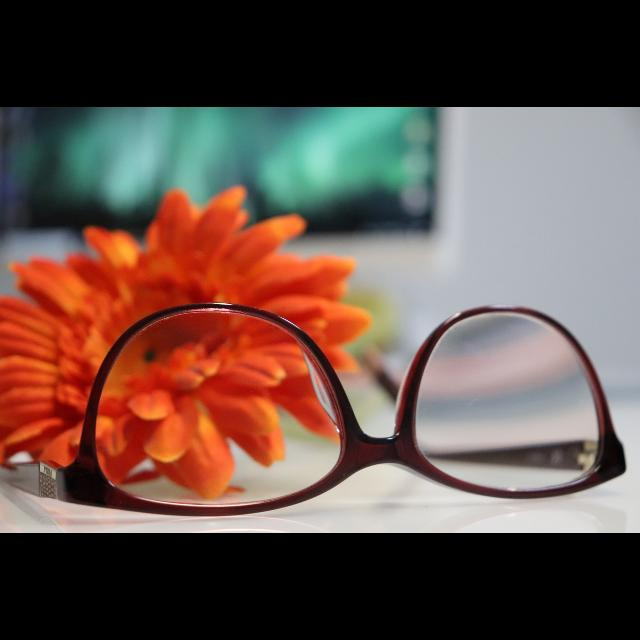glasses: (43, 302, 629, 514)
